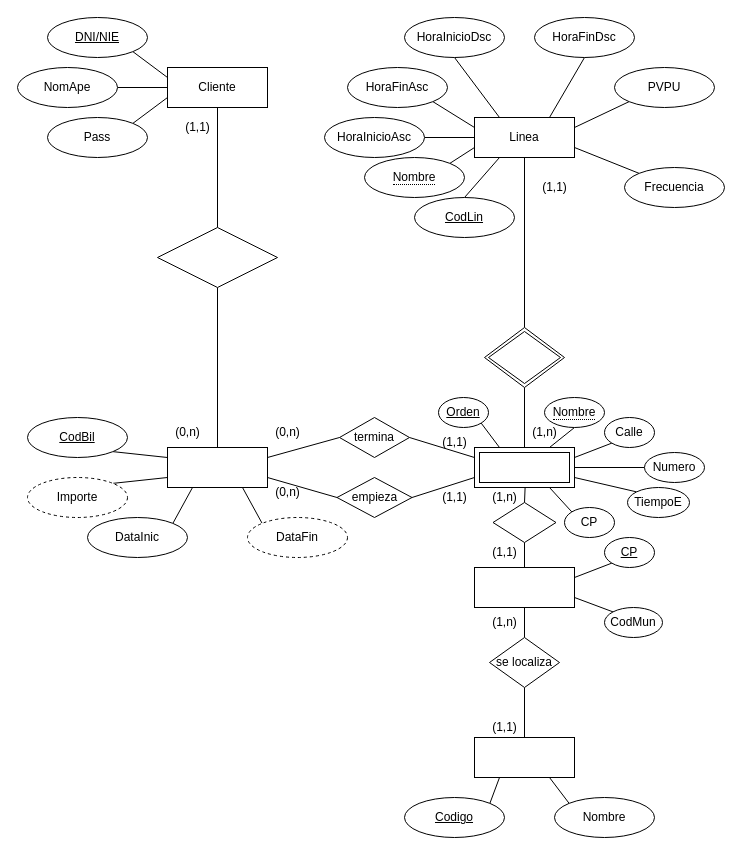
Some shapes in this 742 by 855 pixel diagram are drawn without their labels. The shapes that lost their labels are listed below. From the top down, each one's centre as x and y in pixels, then its label:
point 217,257: compra
point 524,357: ID incluye
point 217,467: Billete
point 524,467: Parada
point 524,522: esta
point 524,587: CodigoPostal
point 524,757: Municio
